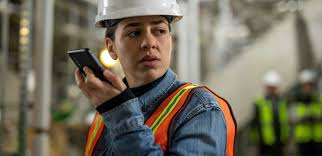Person_wearing_helmet: (87, 0, 181, 42)
